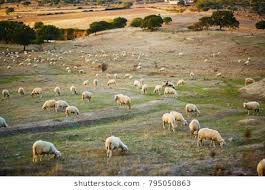sheep: (32, 139, 62, 163), (198, 128, 225, 149), (104, 136, 127, 159), (171, 109, 187, 127), (162, 113, 177, 132), (242, 100, 260, 115), (184, 102, 200, 117), (114, 94, 131, 108), (64, 106, 80, 116), (162, 87, 176, 97), (81, 91, 93, 102), (42, 100, 55, 110), (32, 86, 42, 97), (106, 78, 117, 87), (141, 83, 149, 94), (53, 86, 61, 96), (3, 88, 10, 98), (70, 85, 77, 95), (19, 87, 25, 96), (83, 79, 88, 87)
